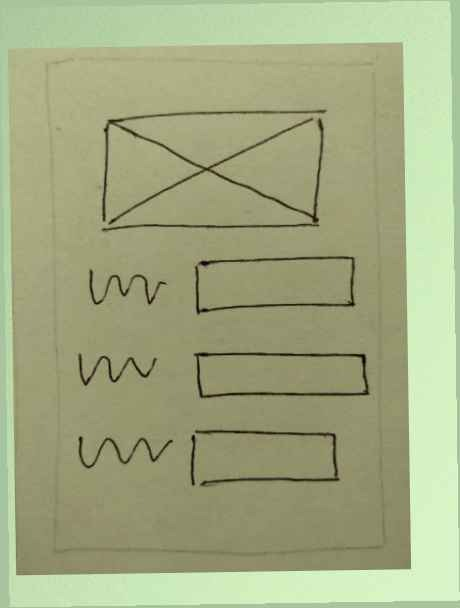image: (90, 101, 334, 238)
text: (65, 425, 176, 479), (75, 261, 181, 316), (72, 342, 171, 394)
text_input: (182, 421, 351, 499), (188, 341, 375, 406), (186, 248, 363, 315)
